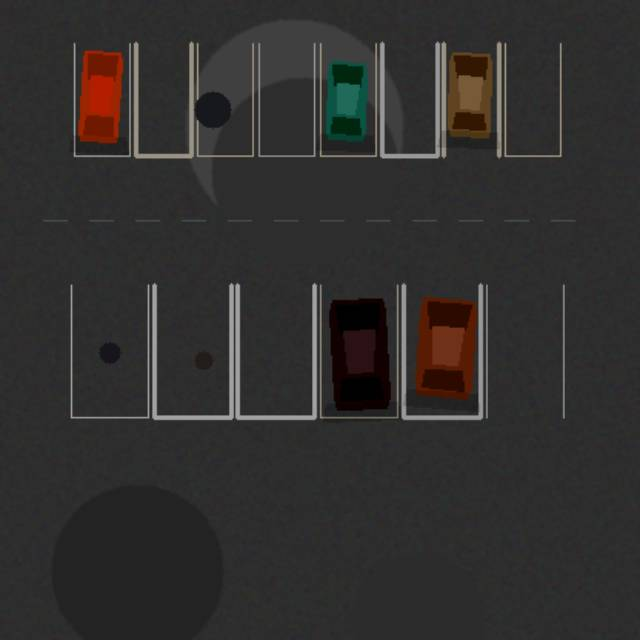space-empty: (71, 285, 148, 417), (154, 285, 231, 417), (237, 285, 314, 417), (486, 285, 563, 417), (135, 43, 191, 155), (258, 43, 314, 155), (197, 43, 252, 155), (382, 43, 437, 155), (505, 43, 560, 155)
space-occupied: (320, 285, 397, 417), (403, 285, 480, 417), (74, 43, 129, 155), (320, 43, 375, 155), (443, 43, 498, 155)
